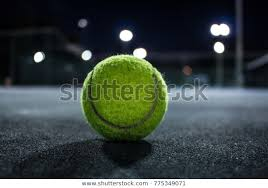tennis_ball: (80, 53, 169, 144)
